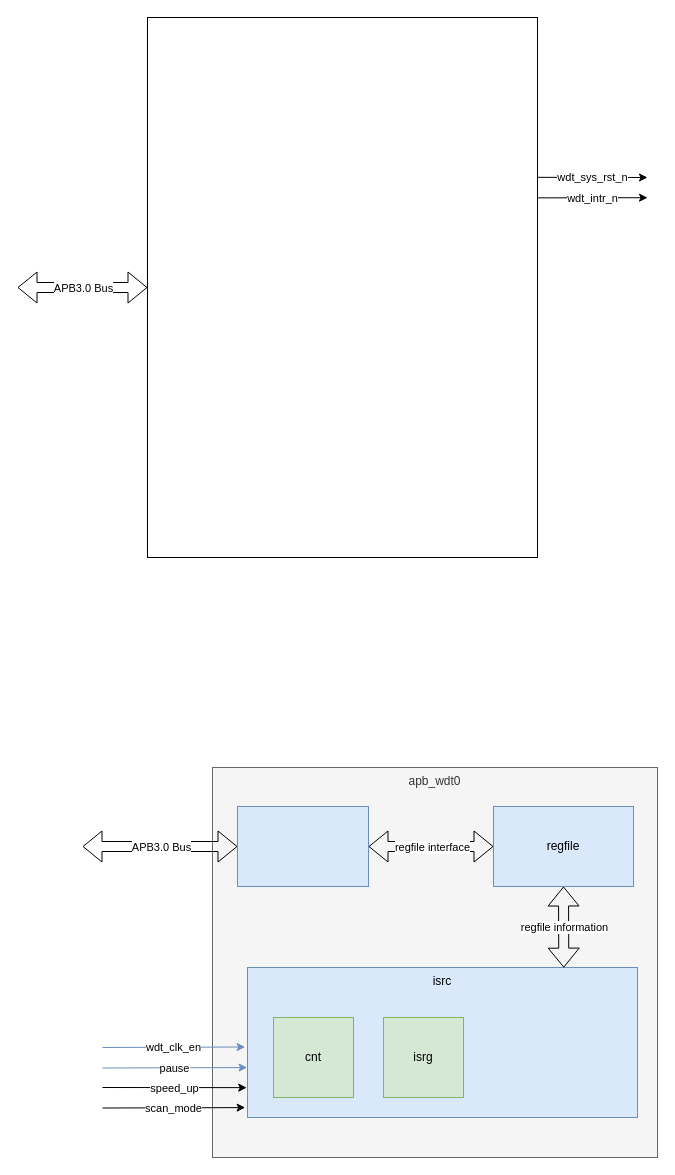
The diagram is 675 pixels wide and 1175 high, and some of its shapes have lost their labels. Each missing label, with the centre of its shape:
"biu" belongs at (x=302, y=846).
"SF_2125V200_WDT" belongs at (x=342, y=287).
